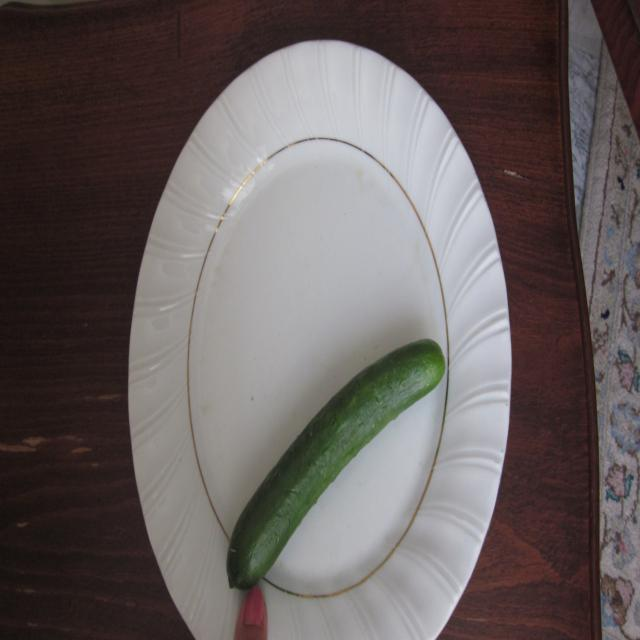cucumber: (217, 328, 448, 594)
